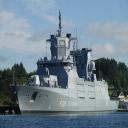Fragata: (9, 8, 121, 117)
